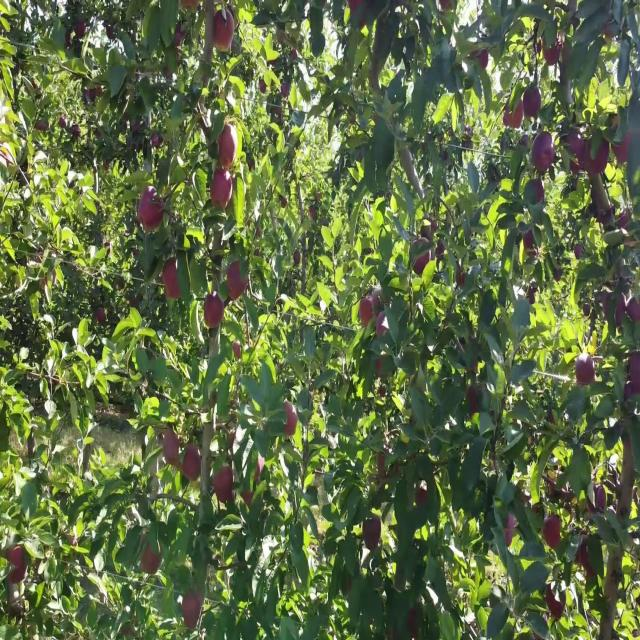apple: (140, 191, 164, 235), (532, 135, 556, 174), (588, 135, 609, 178), (212, 170, 233, 210), (204, 291, 224, 331), (212, 469, 235, 503), (228, 263, 249, 300), (216, 14, 236, 52), (8, 547, 28, 585), (616, 298, 640, 329), (220, 127, 237, 169), (184, 447, 203, 484), (568, 135, 585, 176), (184, 597, 203, 633), (576, 355, 596, 389), (544, 35, 564, 69), (164, 263, 182, 300), (140, 547, 162, 576), (360, 298, 382, 327), (364, 519, 383, 551), (580, 540, 596, 578), (164, 433, 181, 468), (504, 101, 524, 130), (544, 519, 562, 551), (524, 92, 543, 121), (548, 590, 566, 620), (284, 405, 299, 439), (616, 135, 632, 164), (416, 248, 432, 277), (352, 1, 367, 28), (472, 49, 490, 71), (40, 270, 57, 293), (624, 376, 640, 400), (504, 519, 517, 548), (376, 312, 388, 341), (468, 391, 480, 418), (408, 611, 419, 639), (596, 490, 608, 512), (604, 291, 613, 320), (256, 455, 265, 482), (533, 184, 544, 206), (524, 234, 536, 254), (620, 213, 632, 231), (244, 490, 256, 507), (76, 21, 86, 41), (380, 455, 388, 480), (456, 270, 466, 290), (152, 135, 165, 149), (416, 490, 428, 505), (96, 312, 107, 327), (376, 355, 384, 373), (236, 341, 242, 363), (528, 291, 536, 306), (576, 248, 584, 261), (548, 412, 554, 427)
